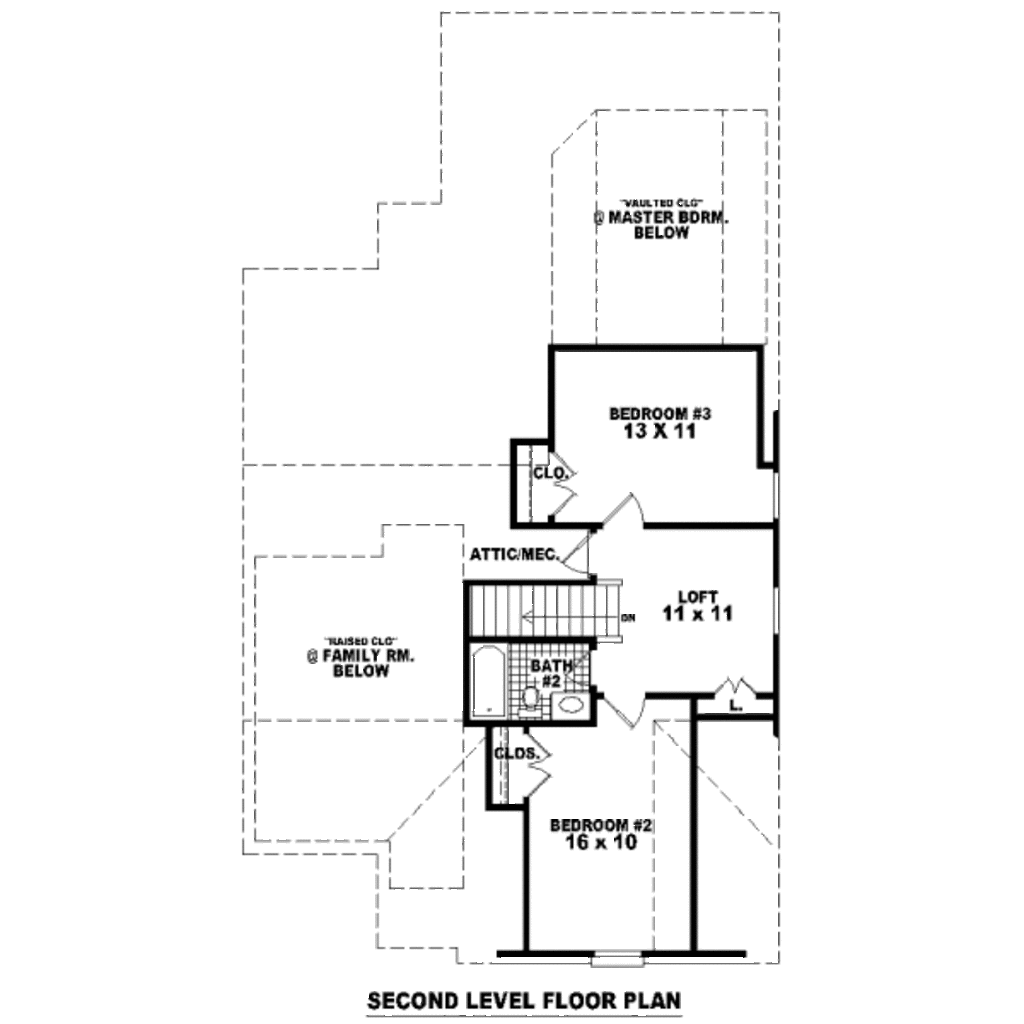door: (552, 527, 608, 582), (546, 444, 579, 522), (600, 490, 660, 532), (522, 733, 554, 801), (598, 689, 648, 730), (706, 674, 762, 706)
large_sink: (506, 673, 546, 725)
small_sink: (549, 690, 592, 730)
stairs: (460, 573, 624, 646)
tub: (465, 638, 510, 724)
window: (751, 573, 791, 643), (589, 944, 646, 971), (767, 473, 789, 524)
